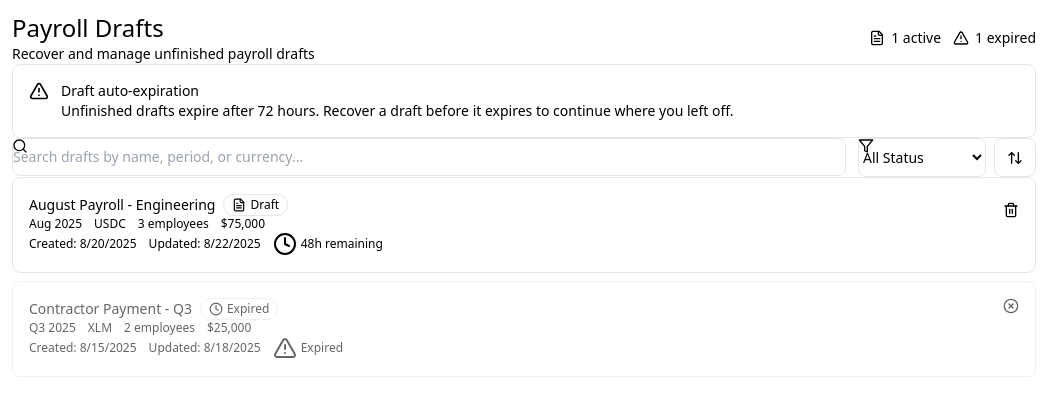
Test: PayrollDraftRecovery › filters drafts by search query
Type "Engineering" into the field with placeholder "Search drafts by name, period, or currency..." at (429, 157), box [12,138,846,176]
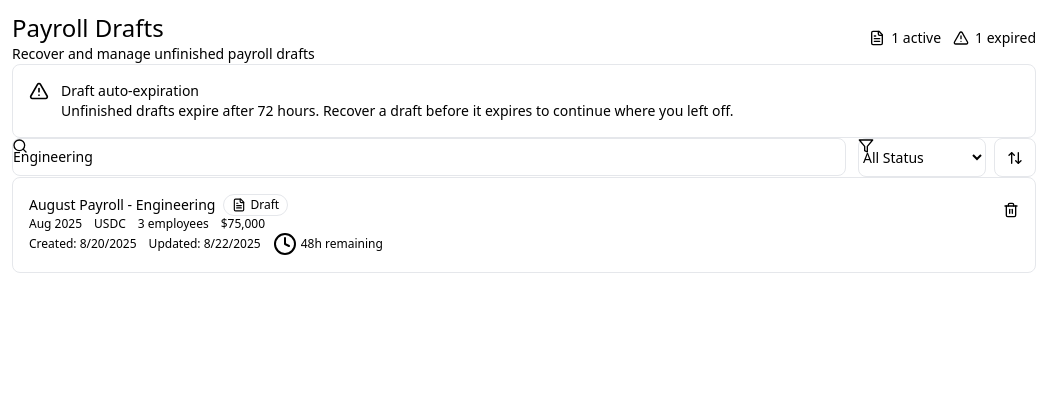
Expected: the text "August Payroll - Engineering" is shown, [29,195,216,215]
Expected: the text "Contractor Payment - Q3" is gone
